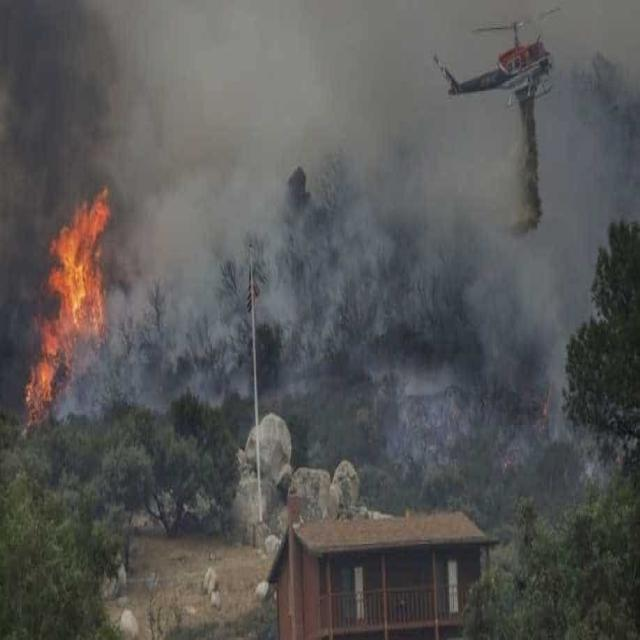Fire: (52, 228, 97, 329)
Smoke: (0, 2, 101, 190), (1, 198, 45, 312)
